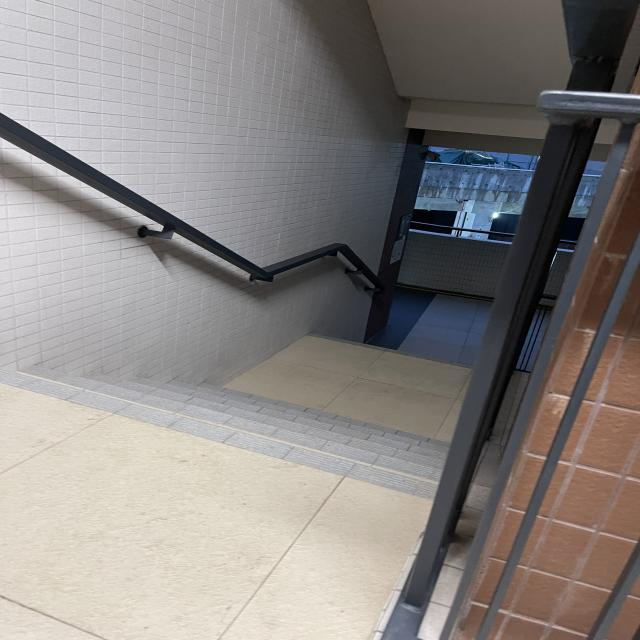Stairs: (0, 311, 501, 527)
